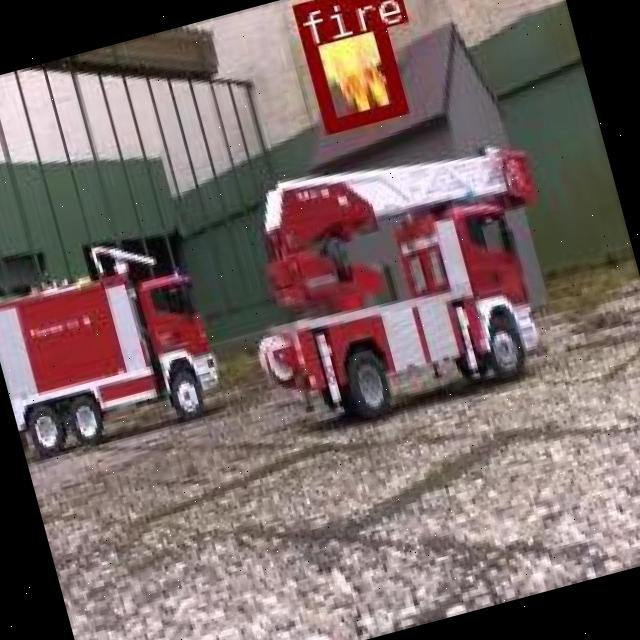fire: (289, 0, 404, 129)
